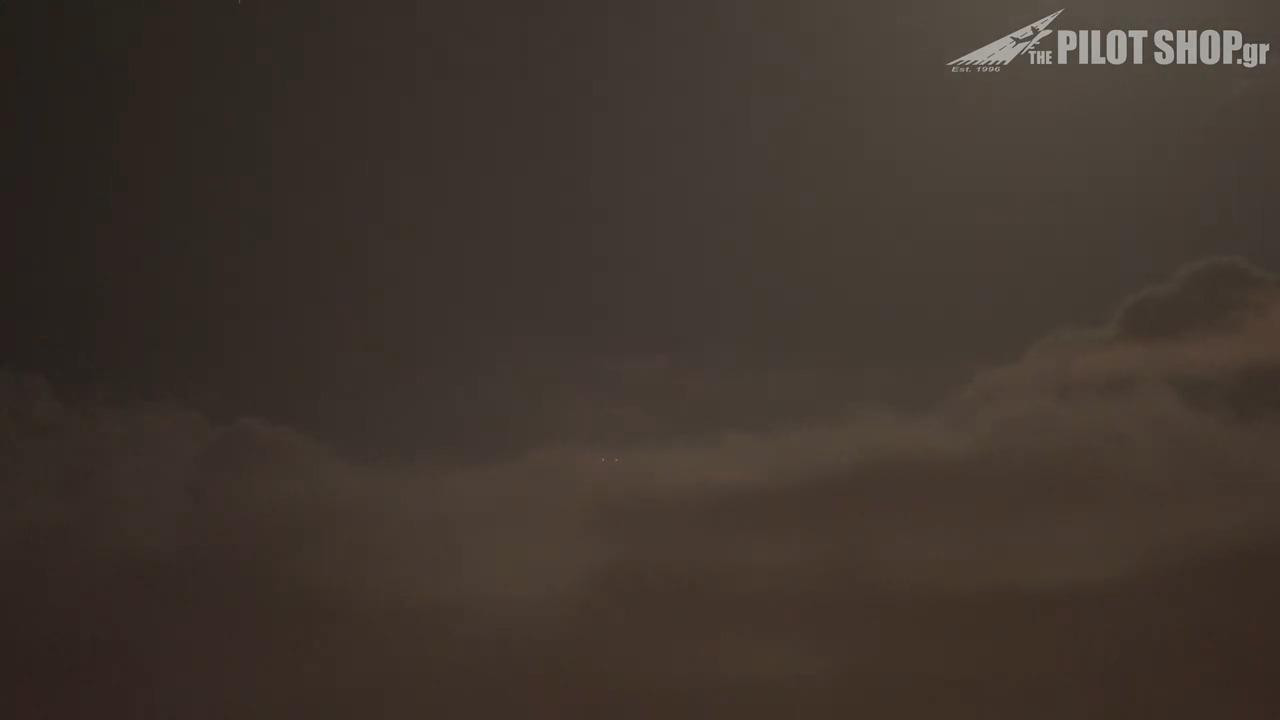Plane: (599, 454, 626, 465)
